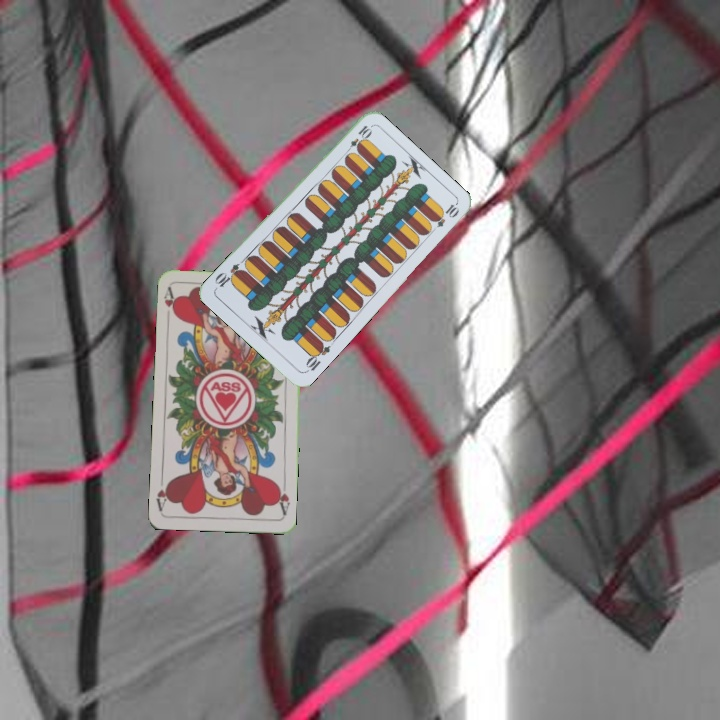E10: (301, 338, 333, 375), (342, 121, 374, 157)
HA: (160, 284, 180, 325), (273, 477, 292, 518)
